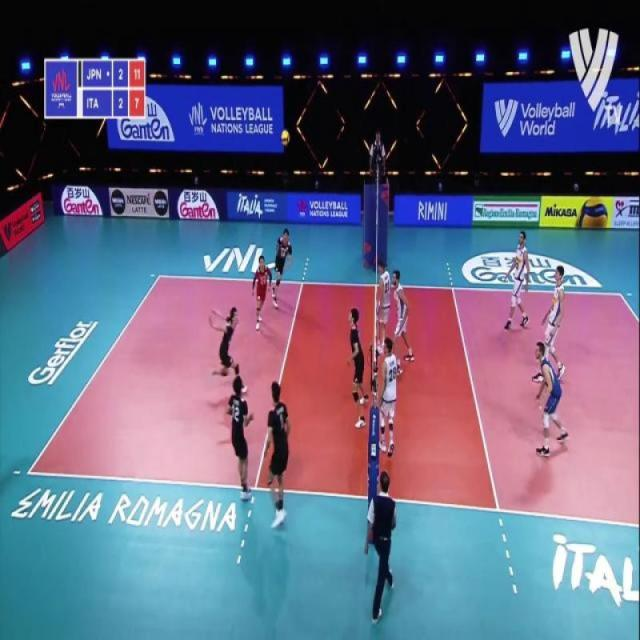volleyball: (574, 198, 610, 228), (278, 122, 292, 150)
